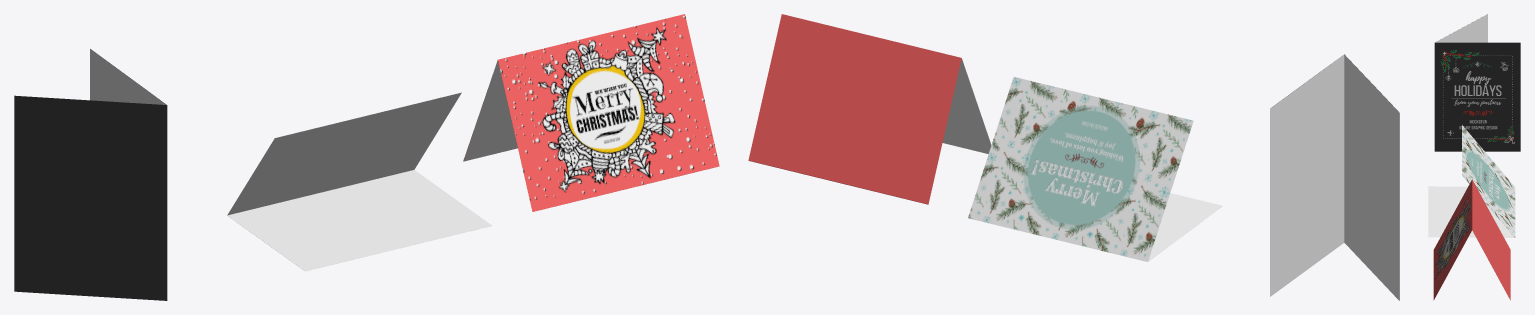
The model's file is christmas_card.glb.
The picture shows the model from 3 angles, left to right: view 1: azimuth 30°, elevation 25°; view 2: azimuth 150°, elevation 25°; view 3: azimuth 270°, elevation 25°; orthographic projection. The views are drawn at different scales.
Parts seen in each view (by area): view 1: Christmas Card 1.002_3, Christmas Card 1_2, Christmas Card 1.001_4; view 2: Christmas Card 1.002_3, Christmas Card 1.001_4, Christmas Card 1_2; view 3: Christmas Card 1_2, Christmas Card 1.001_4, Christmas Card 1.002_3.
Part boxes in pixels (x1,y1,x2,y2): Christmas Card 1.002_3: (463, 14, 719, 211); Christmas Card 1_2: (14, 49, 167, 300); Christmas Card 1.001_4: (227, 92, 492, 271); Christmas Card 1.002_3: (748, 14, 991, 204); Christmas Card 1.001_4: (968, 77, 1222, 261); Christmas Card 1_2: (1270, 54, 1399, 300); Christmas Card 1_2: (1434, 14, 1520, 151); Christmas Card 1.001_4: (1428, 125, 1515, 237); Christmas Card 1.002_3: (1433, 179, 1510, 300).
Size of the model in its own units: 19.12 by 5.45 by 4.19.
Materials: 6 (4 with a texture image).
